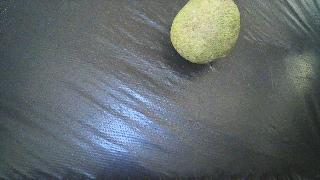DESECHO: (170, 0, 240, 64)
